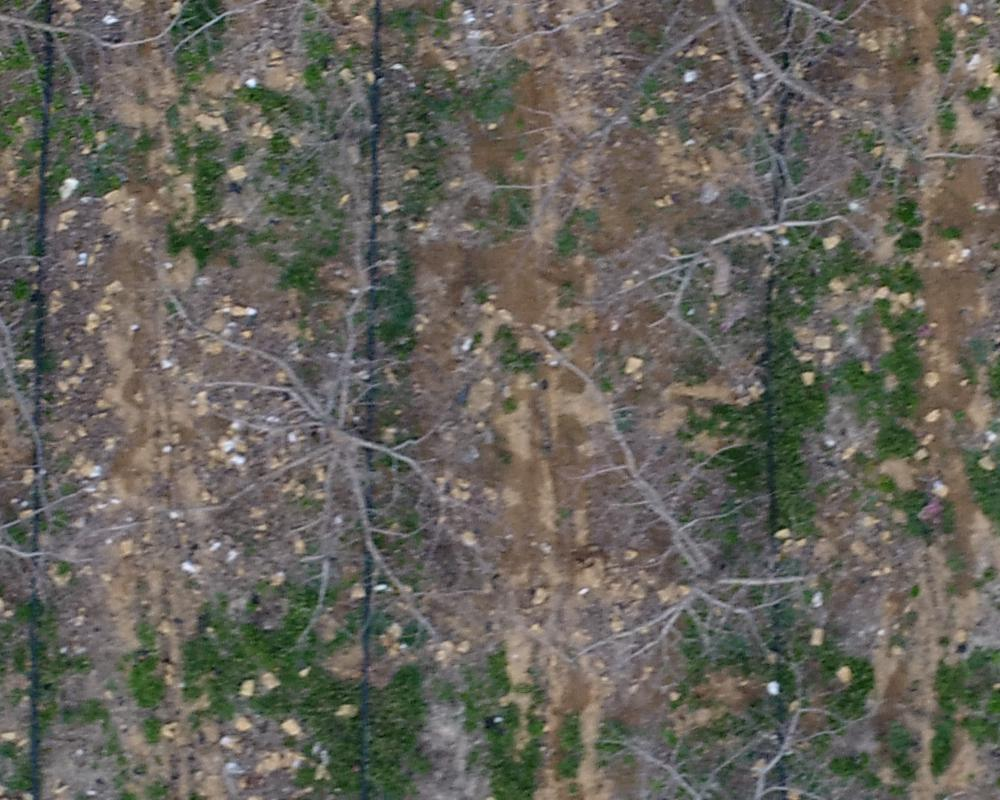apple: (170, 263, 491, 679), (516, 331, 825, 684), (520, 10, 980, 173), (580, 179, 884, 352)
